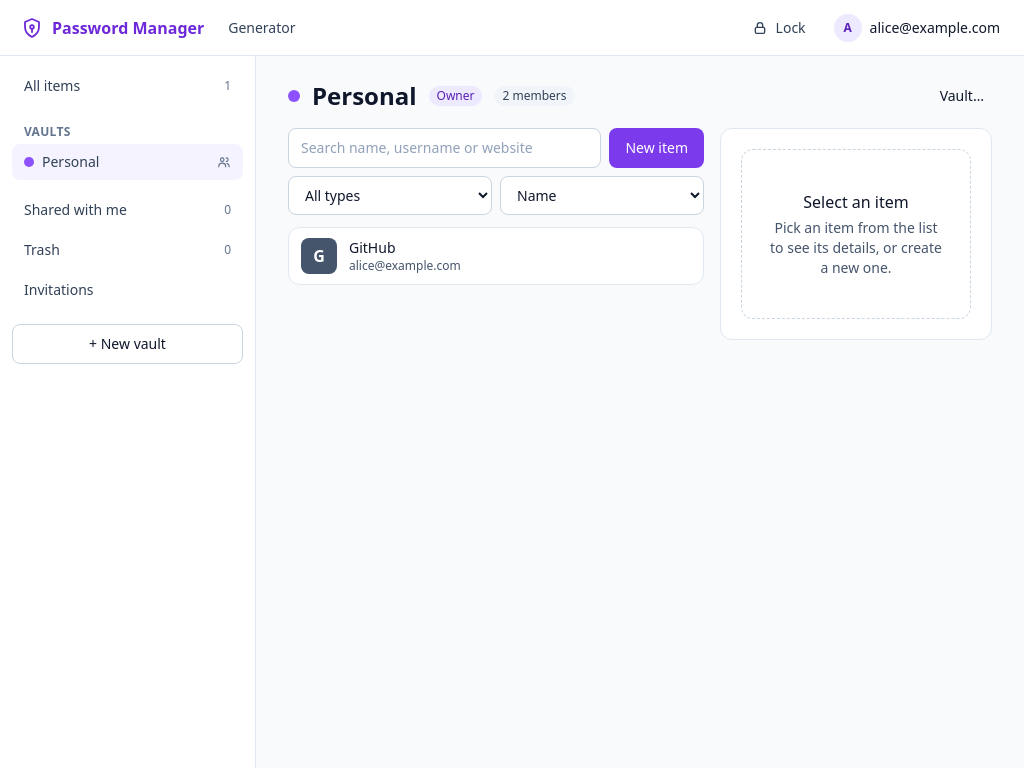
share vault dialog › says so when nobody has that email
The width and height of the screenshot is (1024, 768).
expect the heading "Personal" is shown: met, box top-left (312, 80), bottom-right (416, 112)
Step 1. Click the button with aria-label "Vault menu" → (962, 96), box top-left (932, 80), bottom-right (992, 112)
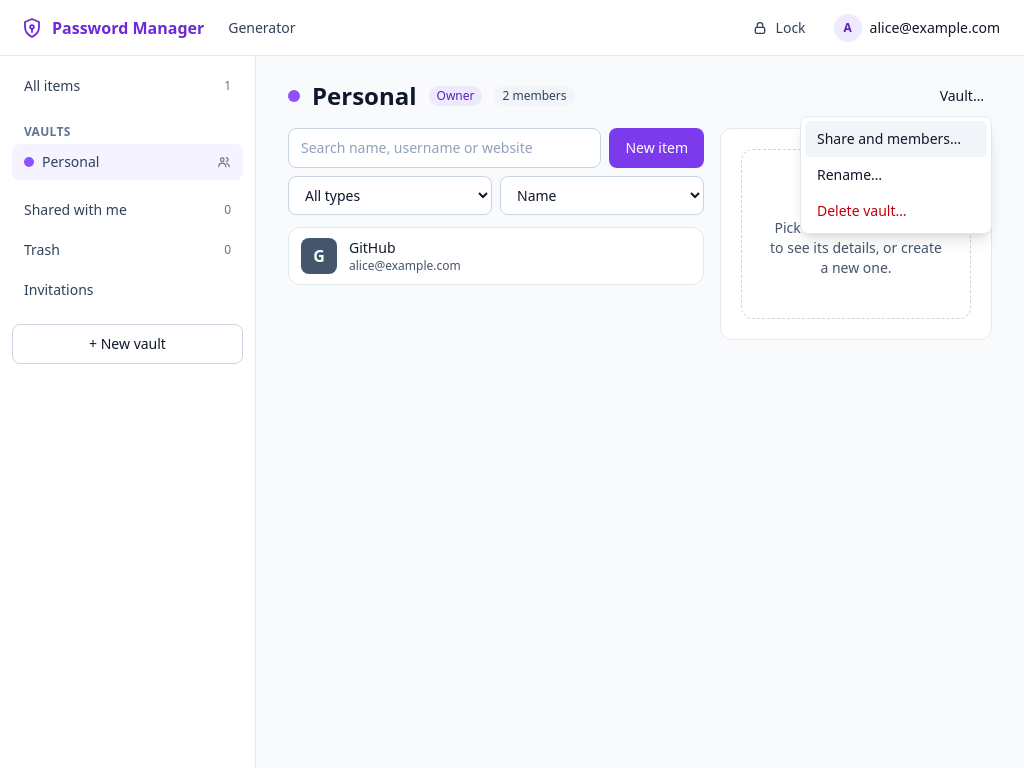
Step 2. Click the menu item "Share and members…" → (896, 139), box top-left (805, 121), bottom-right (987, 157)
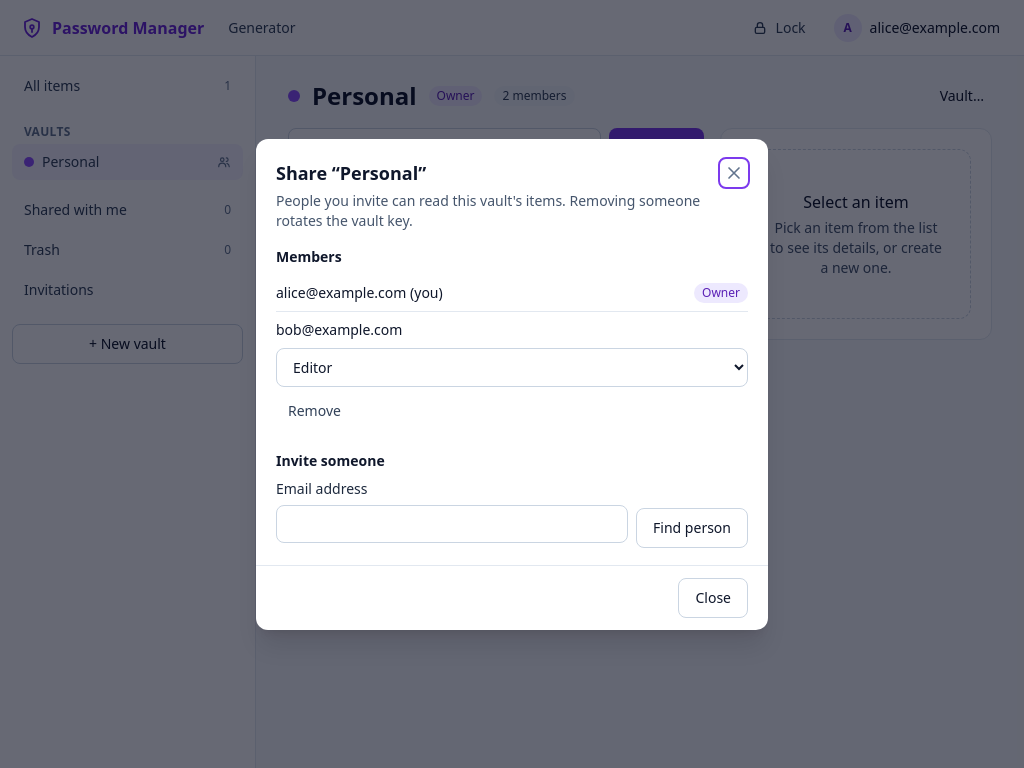
Step 3. Type "ghost@example.com" into the field labelled "Email address" → (452, 524), box top-left (276, 504), bottom-right (628, 542)
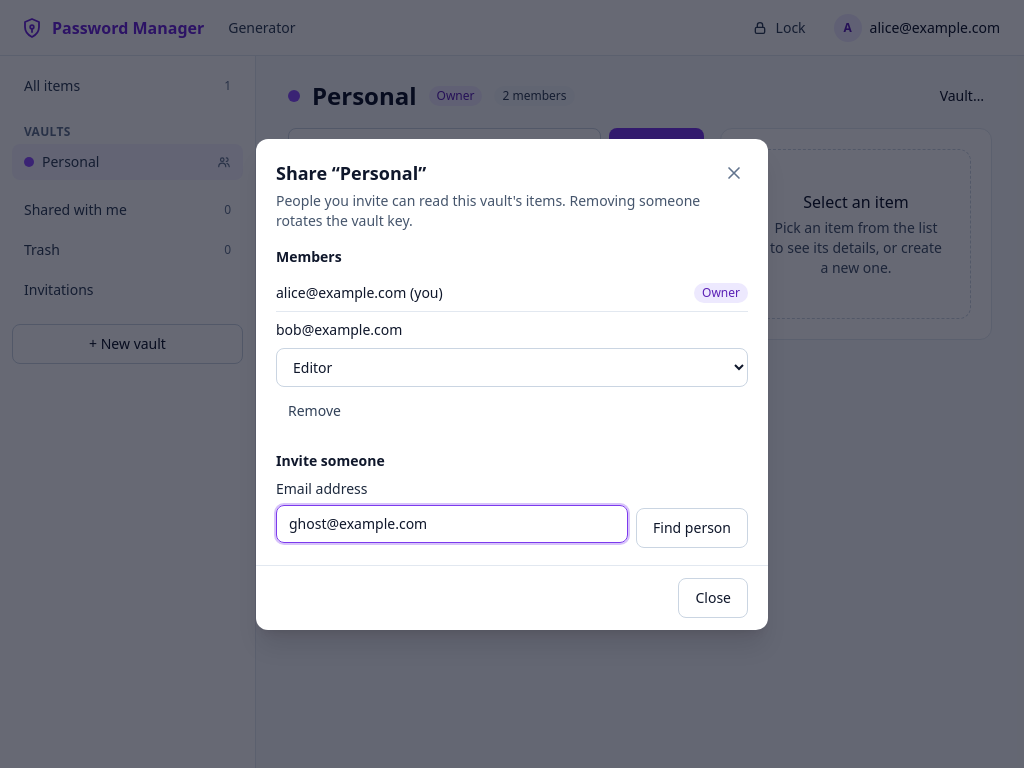
Step 4. Click the button "Find person" → (692, 528), box top-left (636, 508), bottom-right (748, 548)
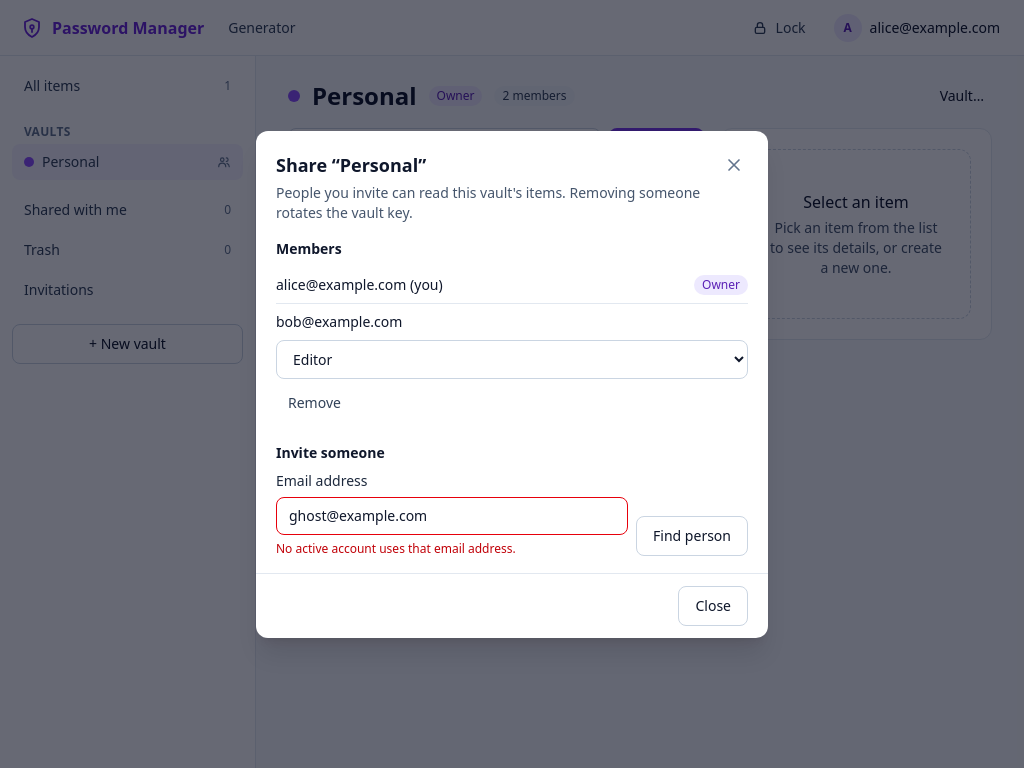
expect the text "No active account uses that email address." is shown: met, box top-left (276, 540), bottom-right (516, 556)
